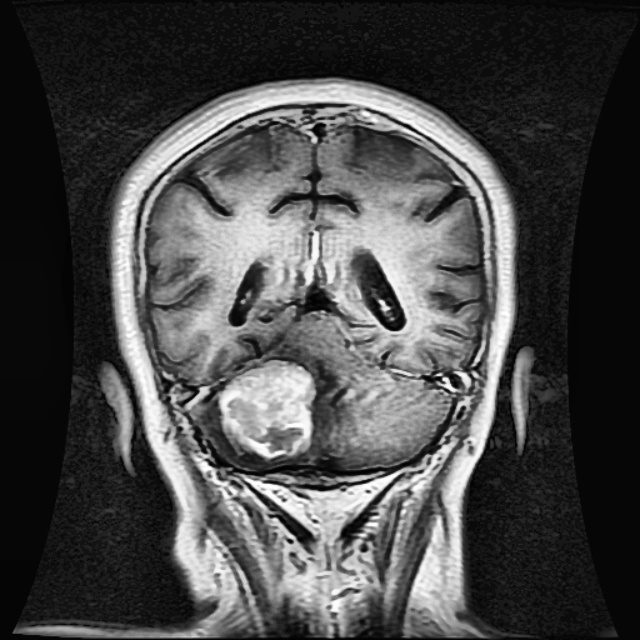Glioma: (220, 358, 313, 459)
